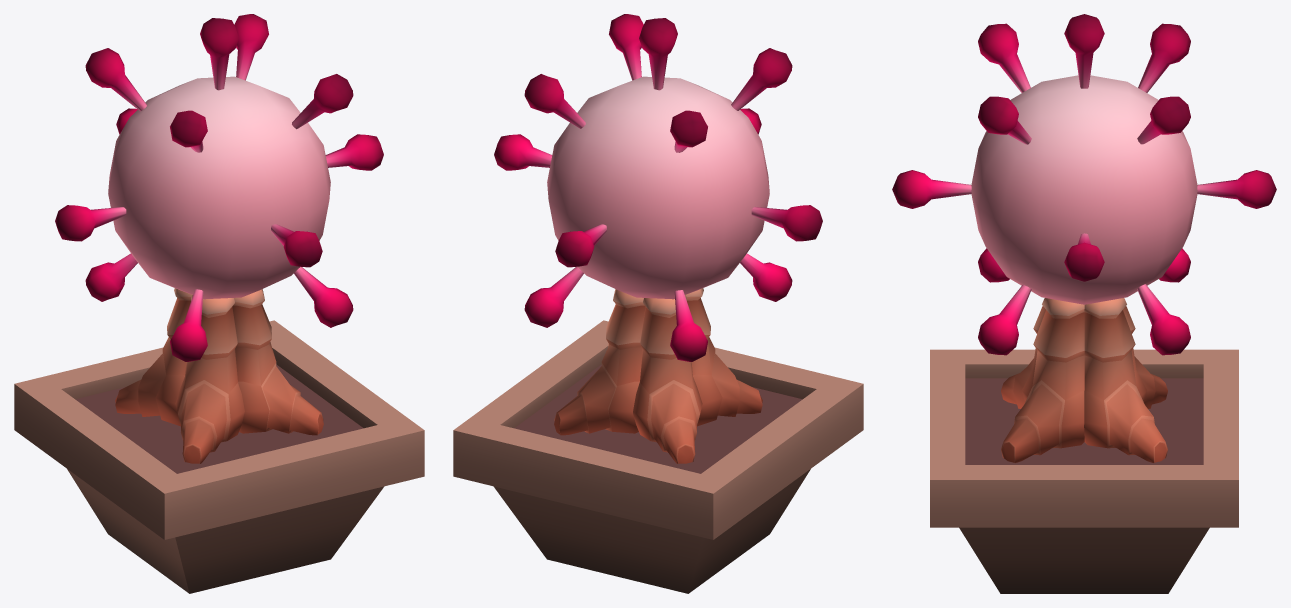
Rendered from wp_wPot_23.fbx.
The picture shows the model from 3 angles, left to right: view 1: azimuth 30°, elevation 25°; view 2: azimuth 150°, elevation 25°; view 3: azimuth 270°, elevation 25°; orthographic projection. The views are drawn at different scales.
Visible parts, largest first — view 1: w_pl23; view 2: w_pl23; view 3: w_pl23.
Boxes of the visible parts, x1,y1,x2,y2 form: w_pl23: (14, 14, 424, 593); w_pl23: (453, 14, 863, 593); w_pl23: (892, 14, 1276, 593).
Bounding box in the file's own units: 137 × 214 × 137.
